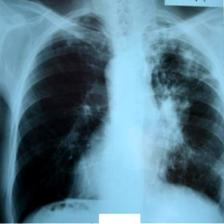tuberculosis: (5, 10, 224, 224)
